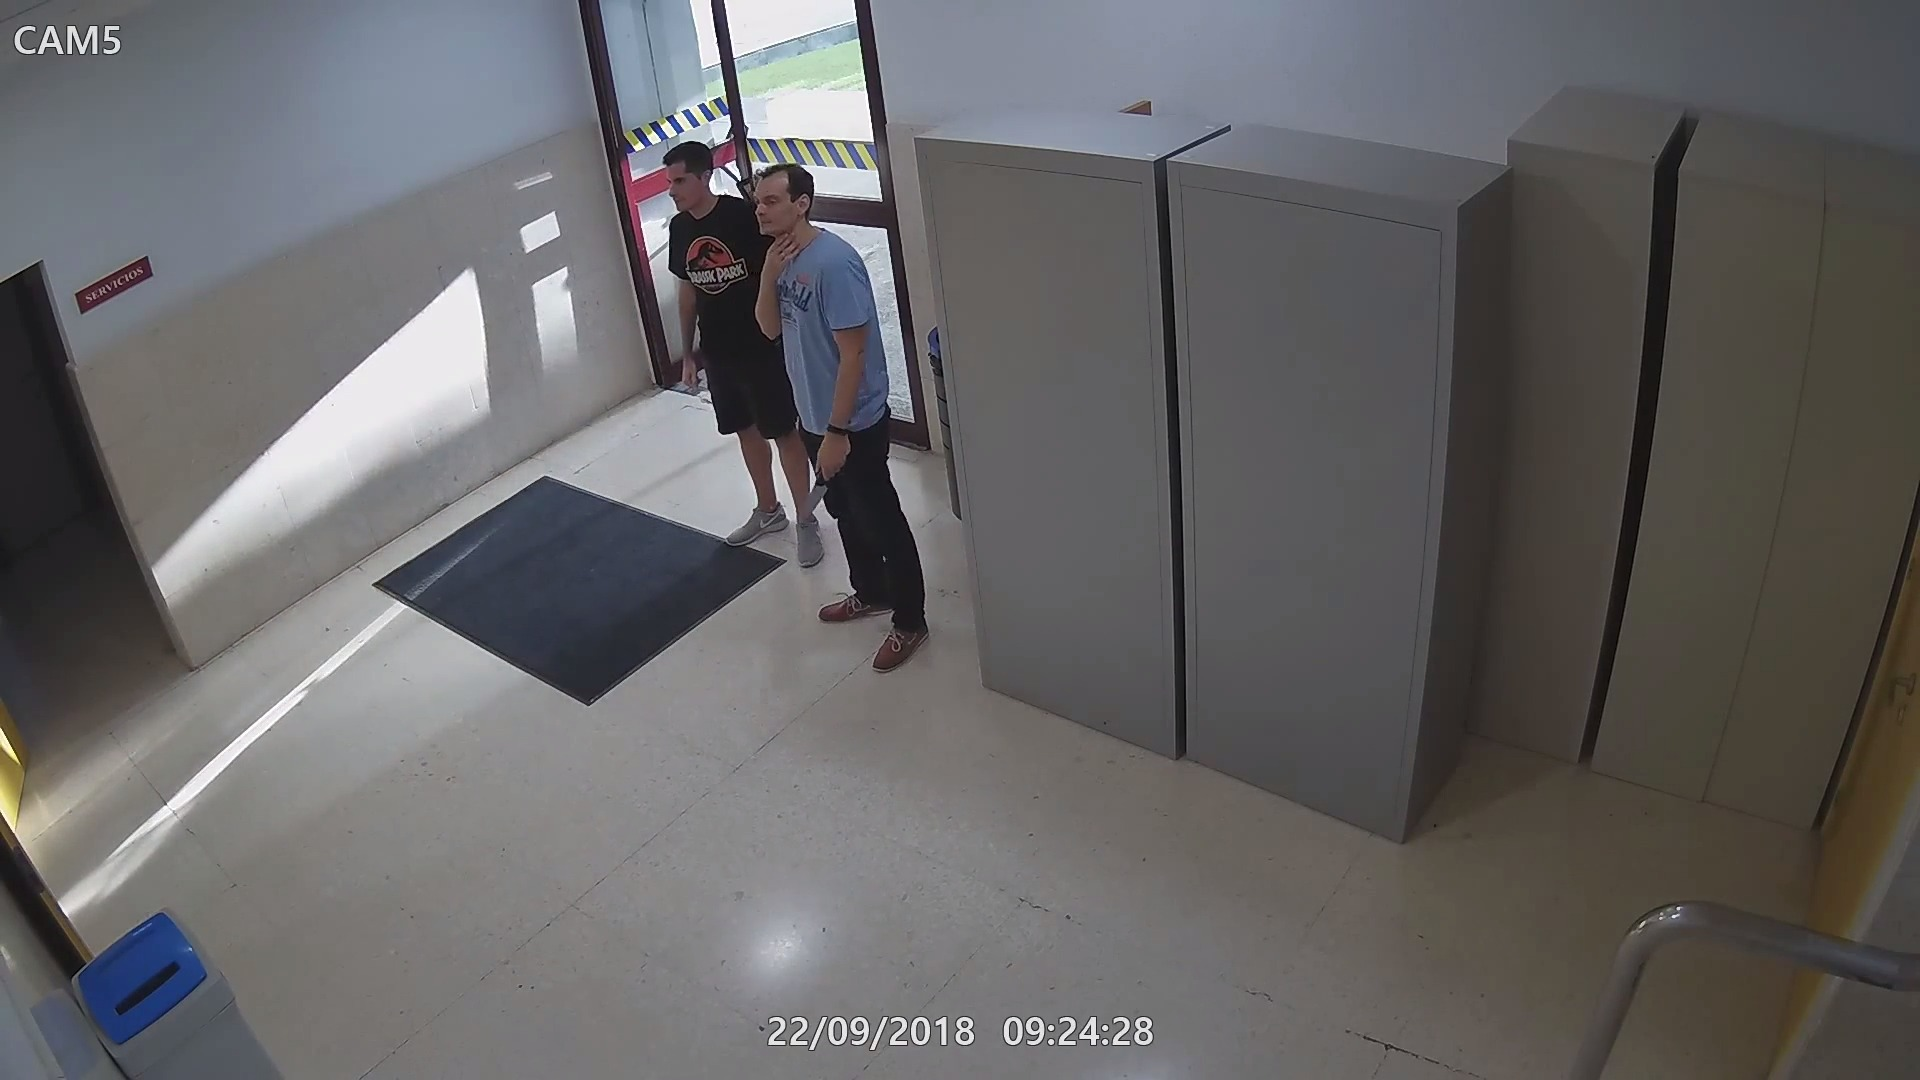Knife: (793, 436, 855, 530)
